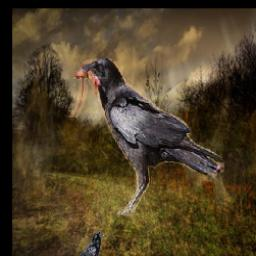Crow: (65, 51, 224, 215), (71, 232, 104, 256)
